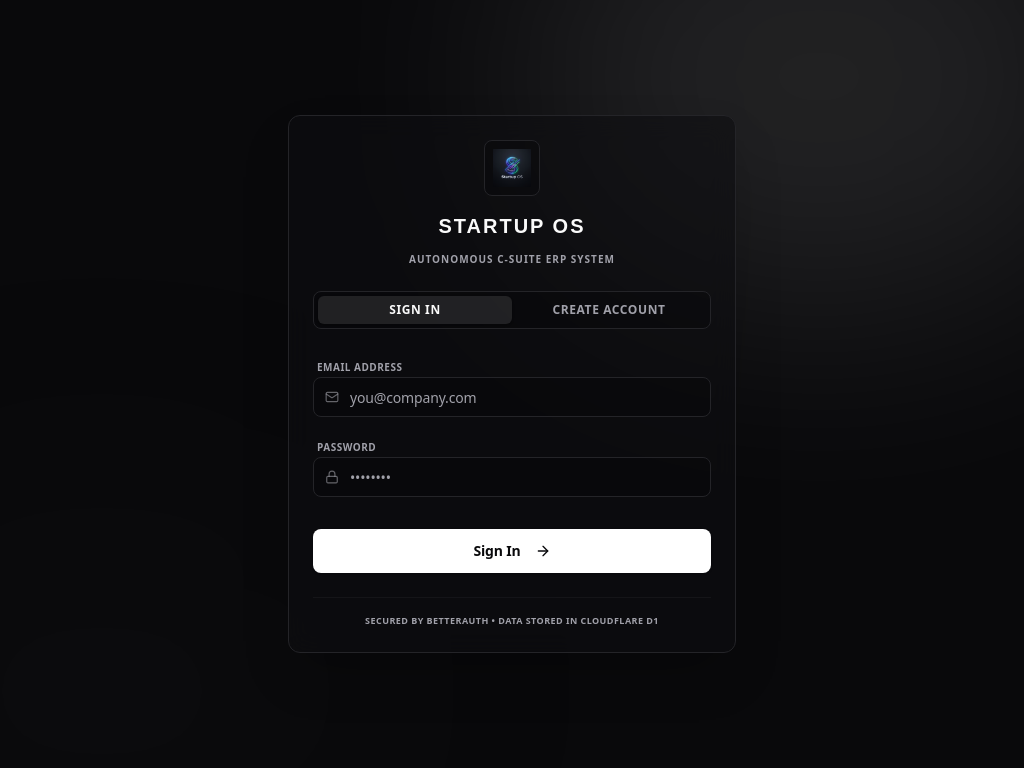
Test: registration signs in before opening the workspace
Click the button "Create Account".
click(609, 310)  # box [512,296,706,324]
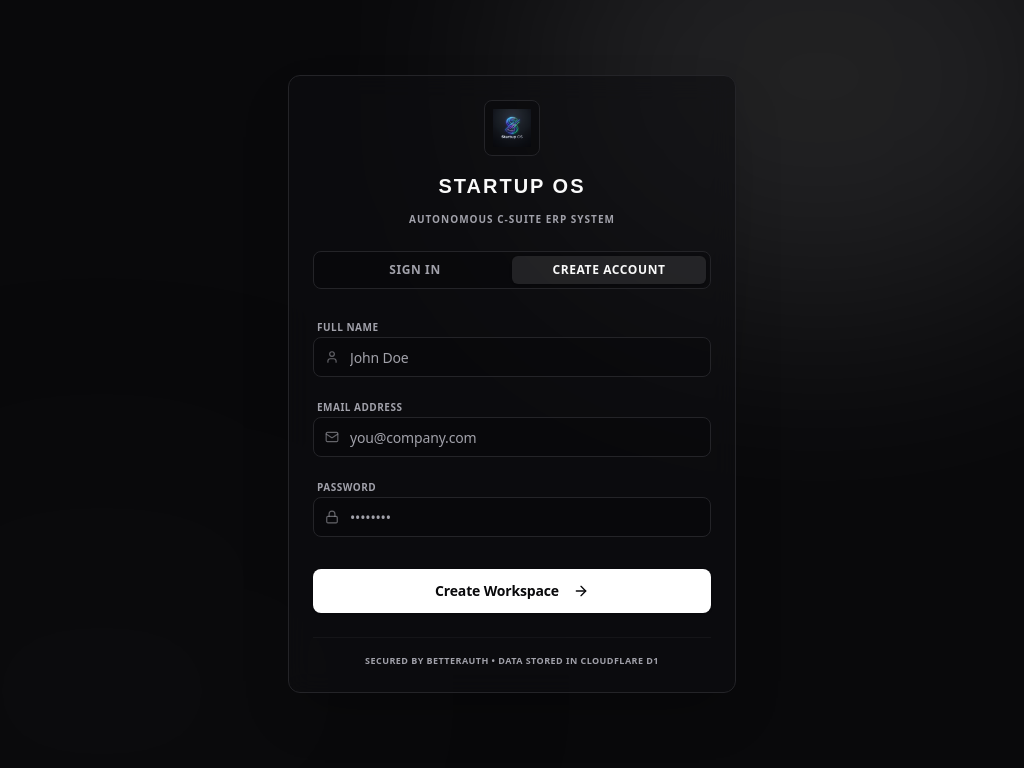
Type "Founder" into the field with placeholder "John Doe".
click(512, 357); type("Founder")  # box [313,337,711,377]
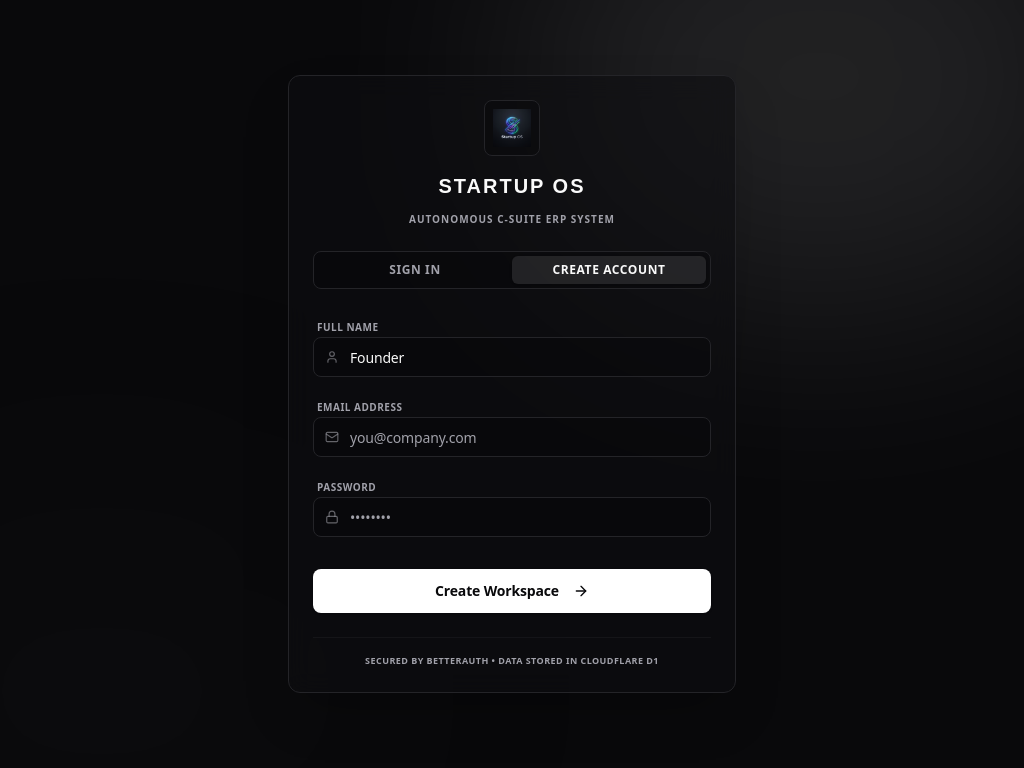
Type "founder@test.local" into the field with placeholder "you@company.com".
click(512, 437); type("founder@test.local")  # box [313,417,711,457]
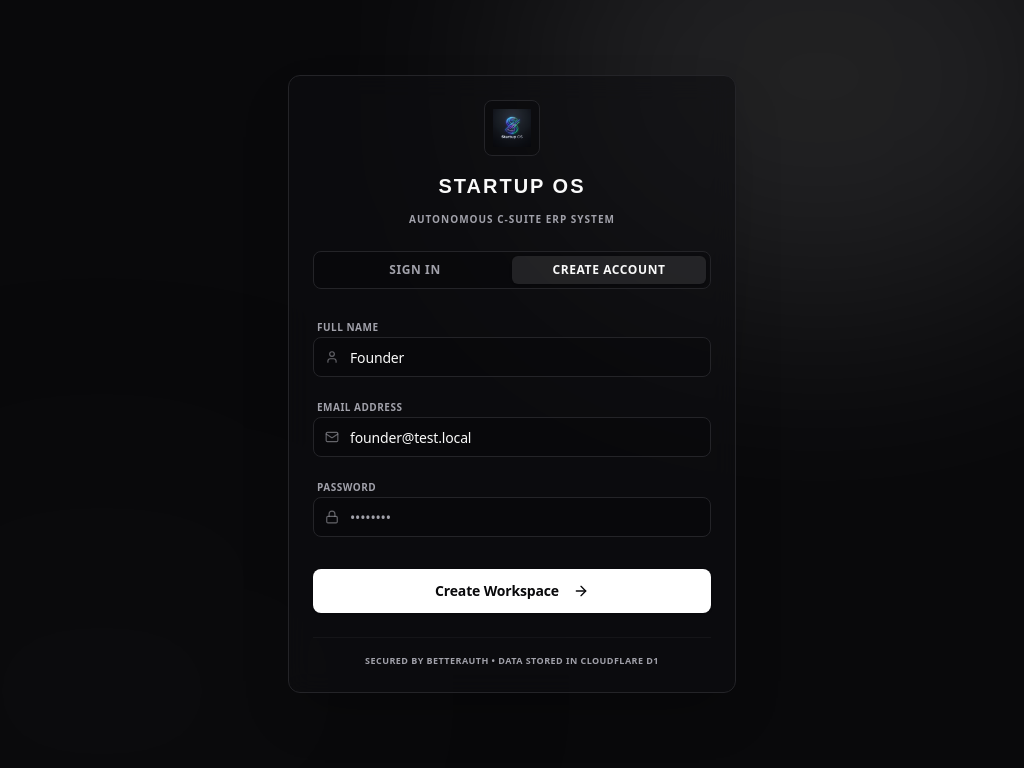
Type "password123" into the password field with placeholder "••••••••".
click(512, 517); type("password123")  # box [313,497,711,537]
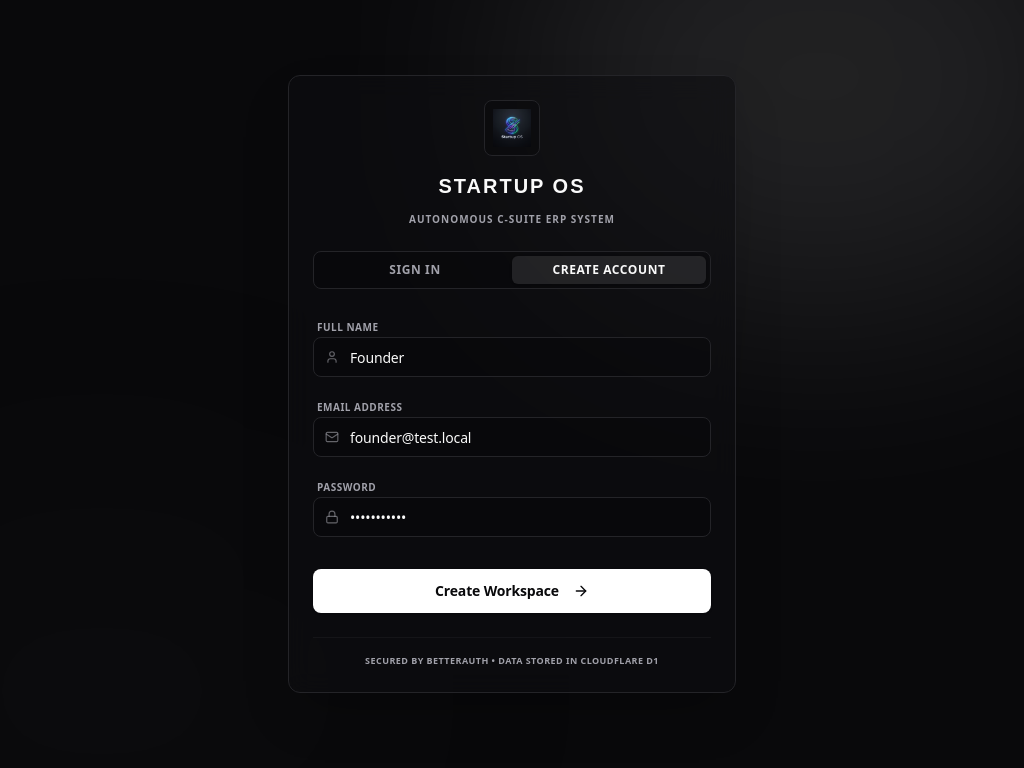
Click the button "Create Workspace".
click(512, 591)  # box [313,569,711,613]
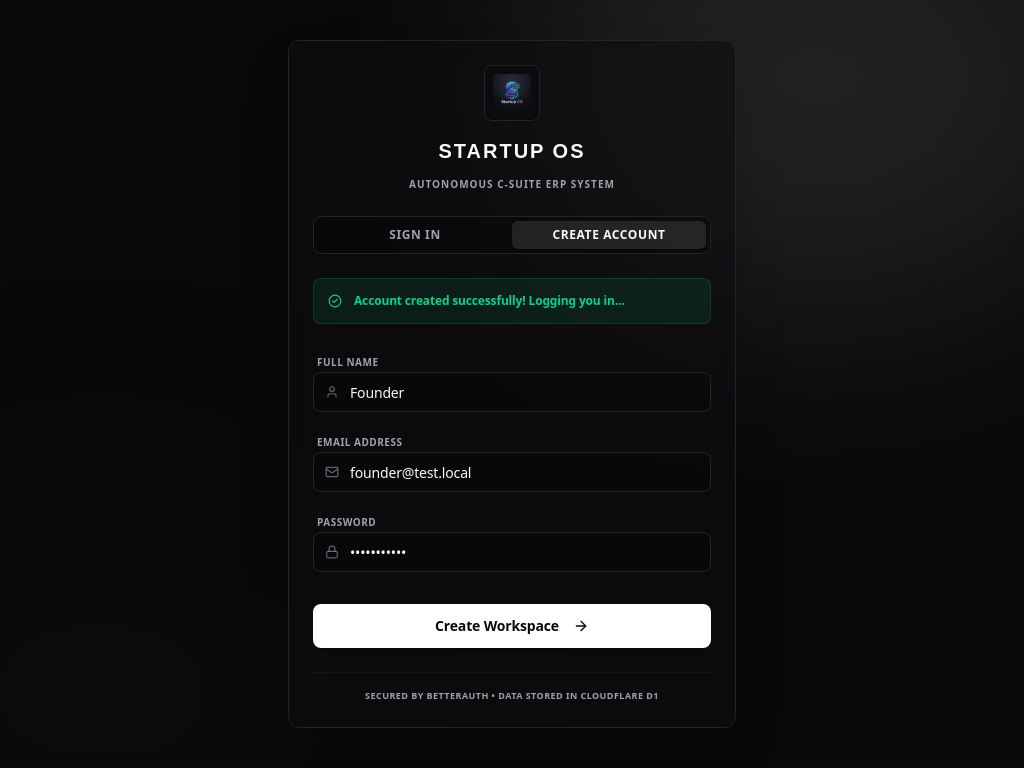
Now the text "Account created successfully! Logging you in..." is shown, box [354,293,624,309]
